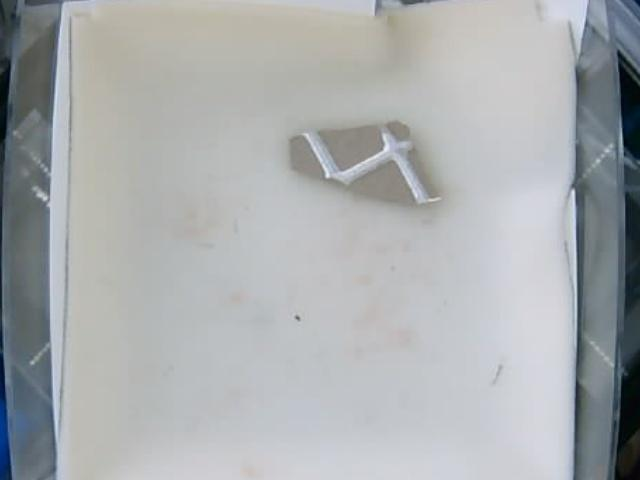China: (286, 122, 440, 208)
